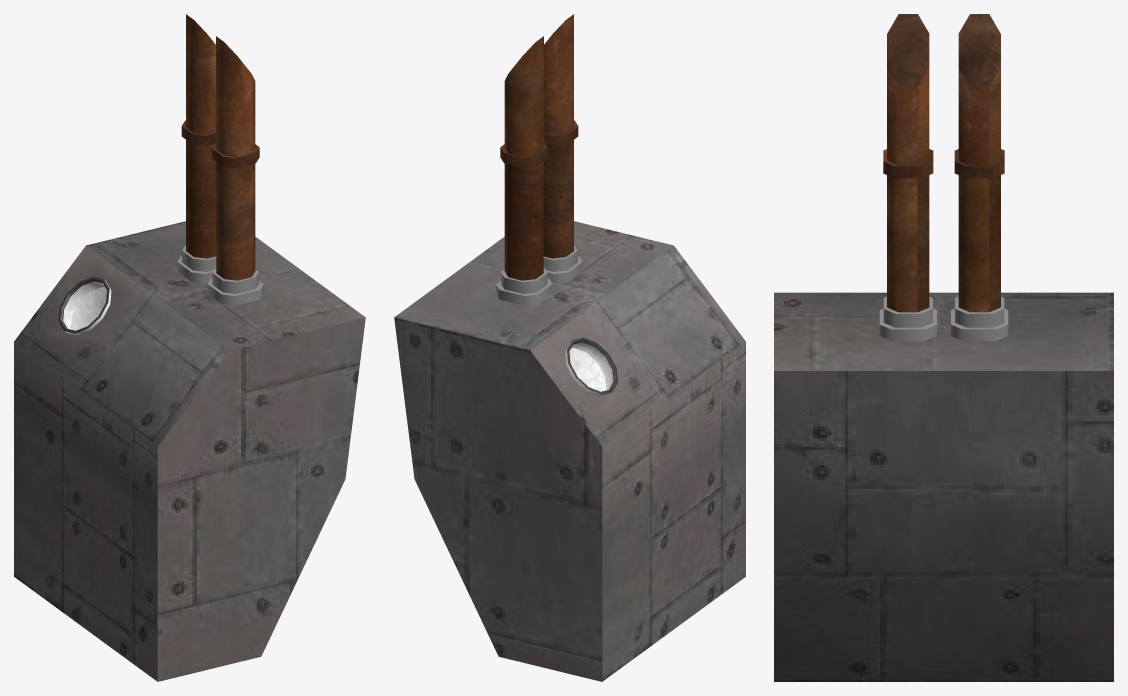
The model's file is tubes_box.glb.
3 views of the same model, side by side, from view 1: azimuth 30°, elevation 25°; view 2: azimuth 150°, elevation 25°; view 3: azimuth 270°, elevation 25° (orthographic). The views are drawn at different scales.
Parts seen in each view (by area): view 1: Tubes Box.001; view 2: Tubes Box.001; view 3: Tubes Box.001.
Part boxes in pixels (left/top/right/bottom): Tubes Box.001: left=14, top=14, right=365, bottom=681; Tubes Box.001: left=394, top=14, right=745, bottom=681; Tubes Box.001: left=774, top=14, right=1113, bottom=681.
Size of the model in its own units: 1.28 by 3.35 by 1.52.
5 materials, 5 textured.
